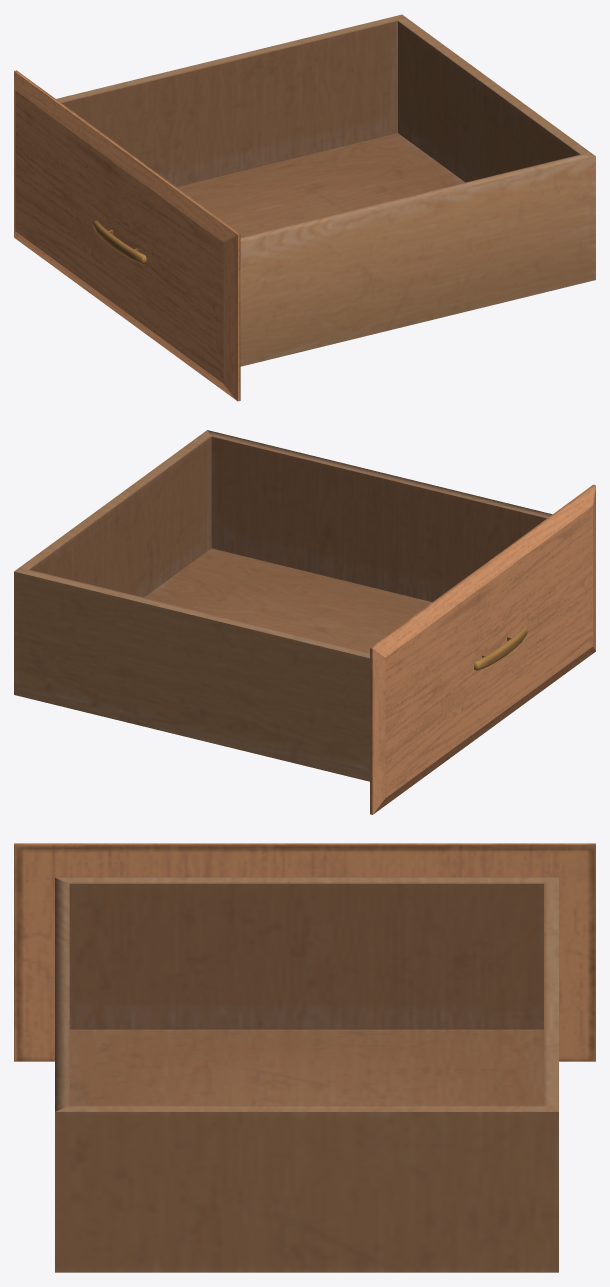
File: SM_BathShelf_A1_DoorC.fbx
3 views of the same model, one above another, from view 1: azimuth 30°, elevation 25°; view 2: azimuth 150°, elevation 25°; view 3: azimuth 270°, elevation 25° (orthographic). The views are drawn at different scales.
Visible parts, largest first — view 1: SM_BathShelf_A1_DoorC; view 2: SM_BathShelf_A1_DoorC; view 3: SM_BathShelf_A1_DoorC.
Boxes of the visible parts, box(x1,y1,x2,y2) form: SM_BathShelf_A1_DoorC: box(14, 14, 595, 401); SM_BathShelf_A1_DoorC: box(14, 430, 595, 814); SM_BathShelf_A1_DoorC: box(14, 843, 595, 1272).
Size of the model in its own units: 70.53 by 69.72 by 28.64.
Materials: 3 (3 with a texture image).
